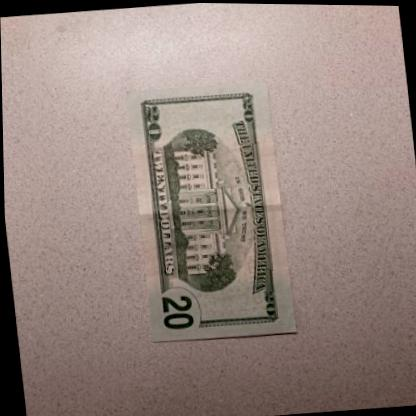twenty-back: (123, 78, 296, 345)
